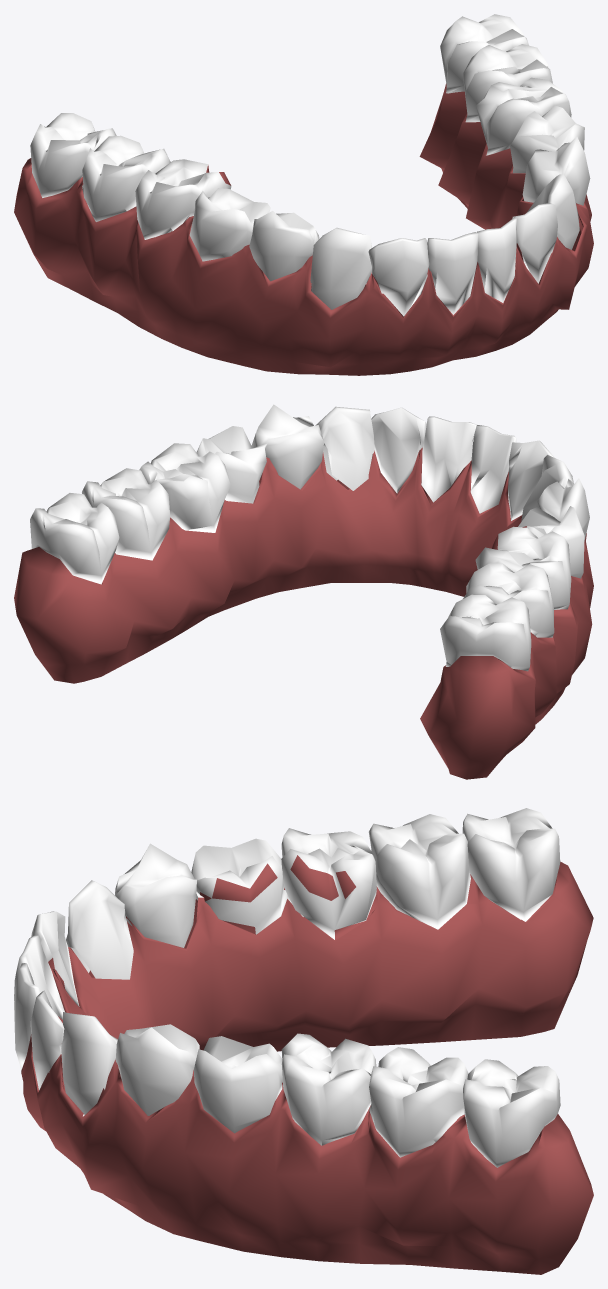
The model's file is jaw.dae.
3 views of the same model, one above another, from view 1: azimuth 30°, elevation 25°; view 2: azimuth 150°, elevation 25°; view 3: azimuth 270°, elevation 25° (orthographic). The views are drawn at different scales.
Visible parts, largest first — view 1: jaw_lower_2 (×16); view 2: jaw_lower_2 (×16); view 3: jaw_lower_2 (×18).
Part boxes in pixels (x1,y1,x2,y2): jaw_lower_2 (×16): [14, 14, 593, 375]; jaw_lower_2 (×16): [14, 404, 593, 779]; jaw_lower_2 (×18): [14, 808, 593, 1274].
Bounding box in the file's own units: 2.87 × 2.34 × 0.9293.
